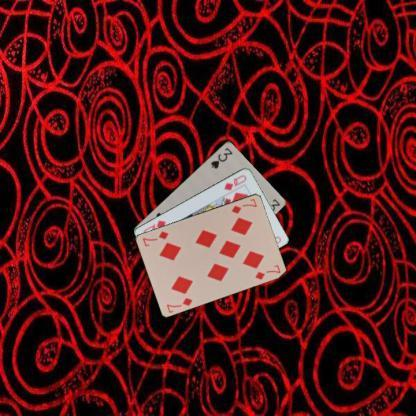3s: (208, 145, 234, 170)
7d: (164, 294, 194, 314), (228, 196, 258, 215)
Qd: (222, 172, 248, 191)
